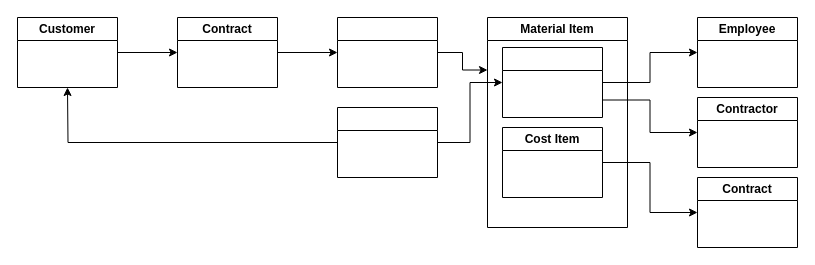
Some shapes in this 815 by 265 pixel diagram are drawn without their labels. Each missing label, with the centre of its shape:
"Labor Item" goes at (x=552, y=82).
"RateCard" goes at (x=387, y=142).
"Service" goes at (x=387, y=52).
